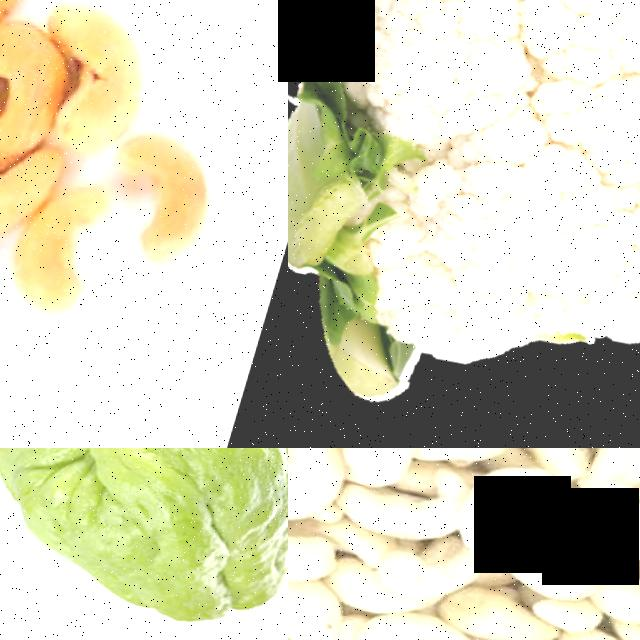cashew: (73, 0, 232, 179), (8, 193, 149, 358), (121, 122, 239, 301), (335, 473, 469, 554), (459, 448, 557, 558), (0, 152, 75, 251), (499, 535, 617, 594), (593, 487, 640, 567), (584, 448, 640, 501), (608, 561, 640, 620)
cauliflower: (288, 0, 640, 448)
chayote: (0, 448, 288, 640)
